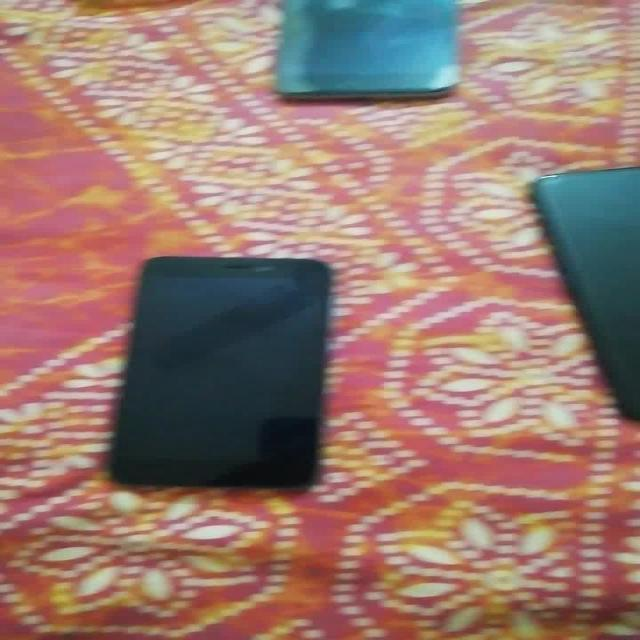phone: (114, 258, 336, 494), (531, 153, 639, 423), (274, 6, 468, 96)
